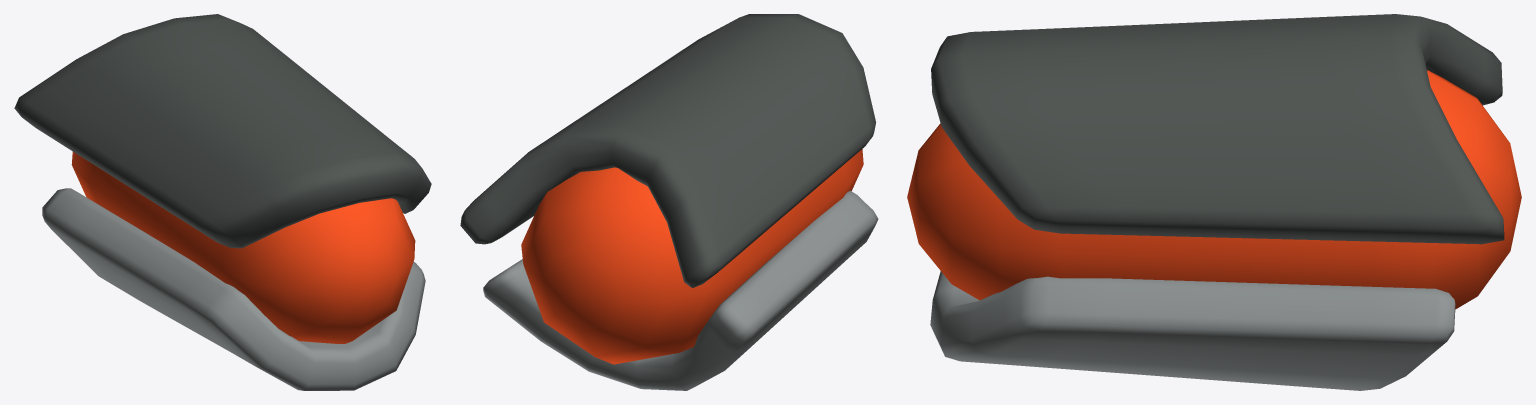
The model's file is xsens_RightFourthMP.dae.
3 renders of one model, left to right at view 1: azimuth 30°, elevation 25°; view 2: azimuth 150°, elevation 25°; view 3: azimuth 270°, elevation 25°, orthographic. The views are drawn at different scales.
Visible parts, largest first — view 1: RightFourthMP; view 2: RightFourthMP; view 3: RightFourthMP.
Boxes of the visible parts, x1,y1,x2,y2 form: RightFourthMP: (14,14,431,390); RightFourthMP: (460,14,878,390); RightFourthMP: (907,14,1521,390).
Bounding box in the file's own units: 0.0185 × 0.0298 × 0.0182.
